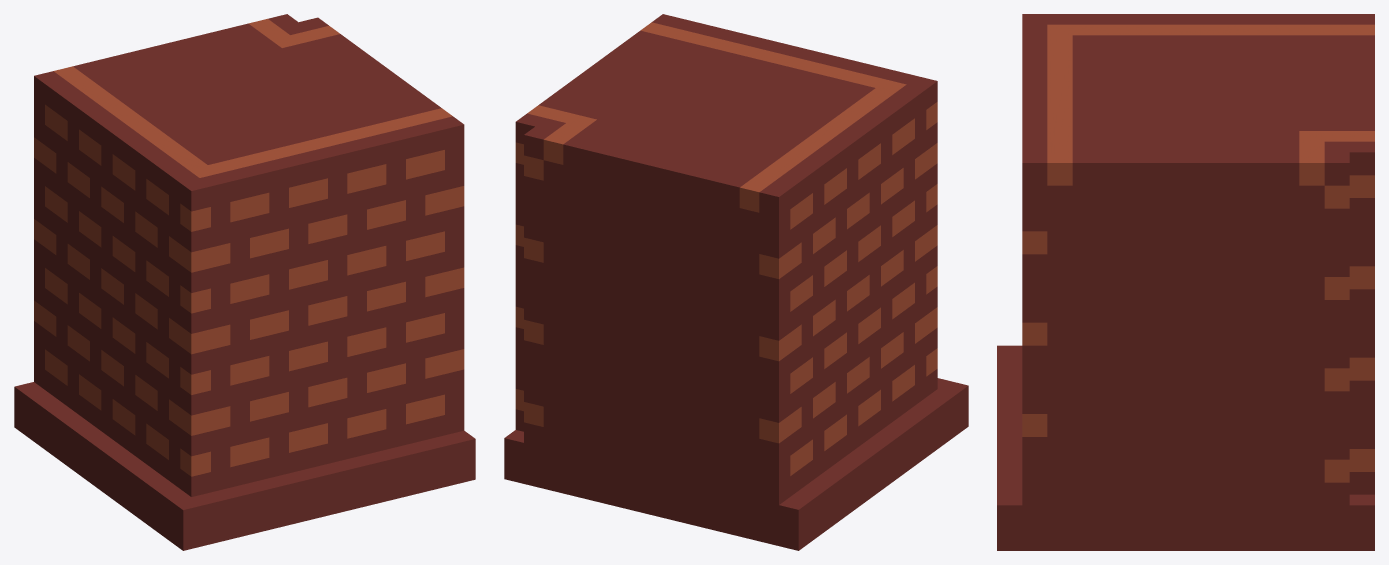
Rendered from dungeon_b_a_inner_wall_corner_a.obj.
The picture shows the model from 3 angles, left to right: view 1: azimuth 30°, elevation 25°; view 2: azimuth 150°, elevation 25°; view 3: azimuth 270°, elevation 25°; orthographic projection. The views are drawn at different scales.
Bounding box in the file's own units: 1.5 × 1.7 × 1.5.
1 material, 1 textured.
